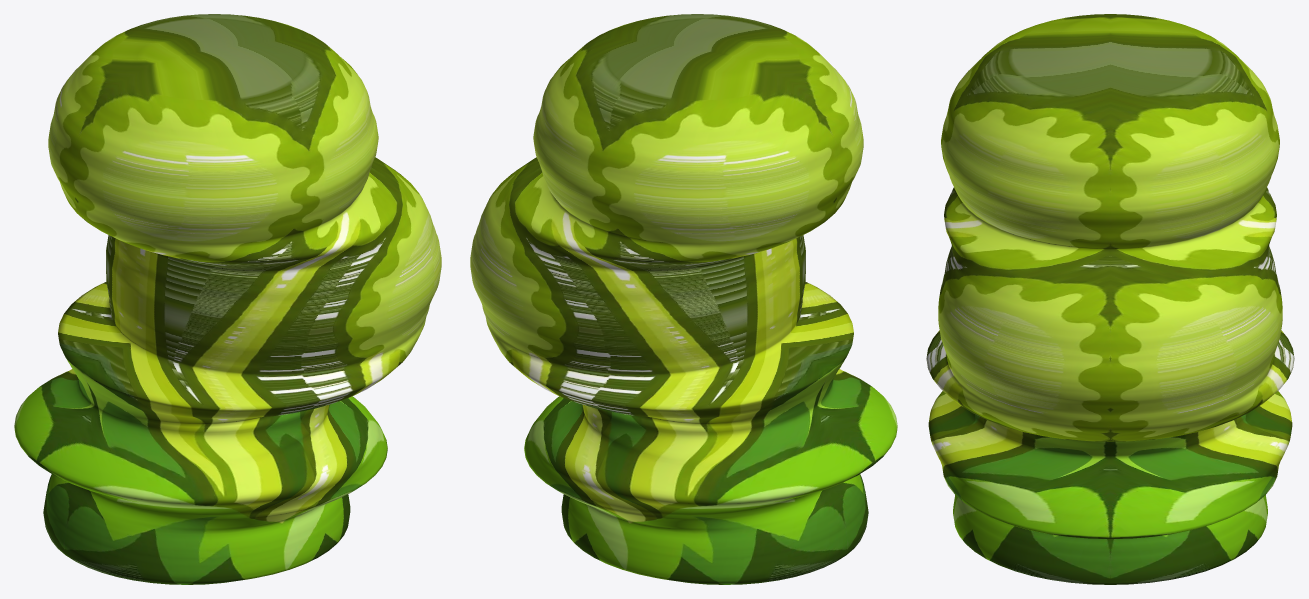
The model's file is white_flowers.glb.
3 renders of one model, left to right at view 1: azimuth 30°, elevation 25°; view 2: azimuth 150°, elevation 25°; view 3: azimuth 270°, elevation 25°, orthographic. The views are drawn at different scales.
Parts seen in each view (by area): view 1: white_flowers; view 2: white_flowers; view 3: white_flowers.
Part boxes in pixels (x1,y1,x2,y2): white_flowers: (14,14,441,584); white_flowers: (470,14,897,584); white_flowers: (926,14,1294,584).
Size of the model in its own units: 0.9917 by 1.28 by 0.8073.
1 material, 1 textured.
